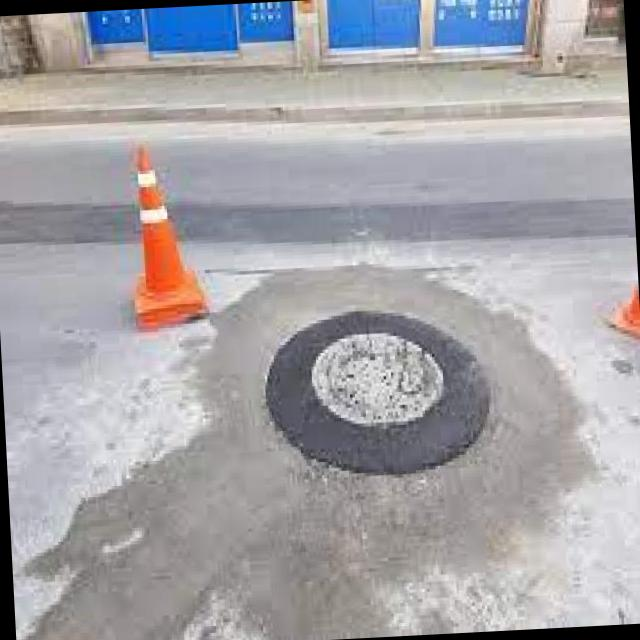manhole: (302, 315, 453, 450)
